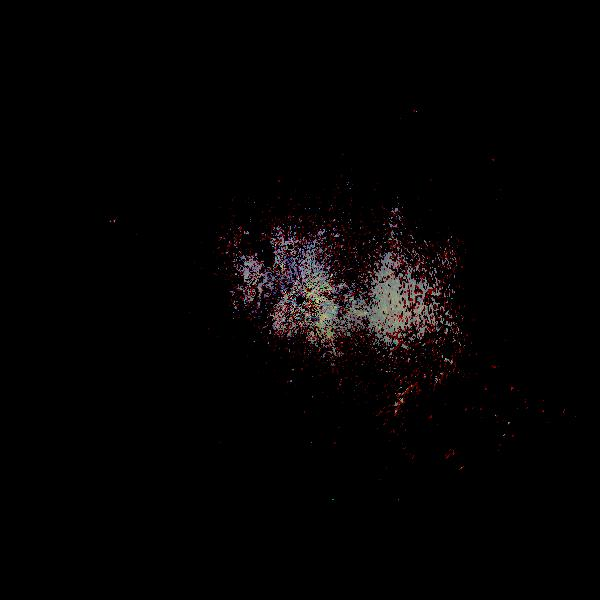roost: (366, 335, 558, 527)
